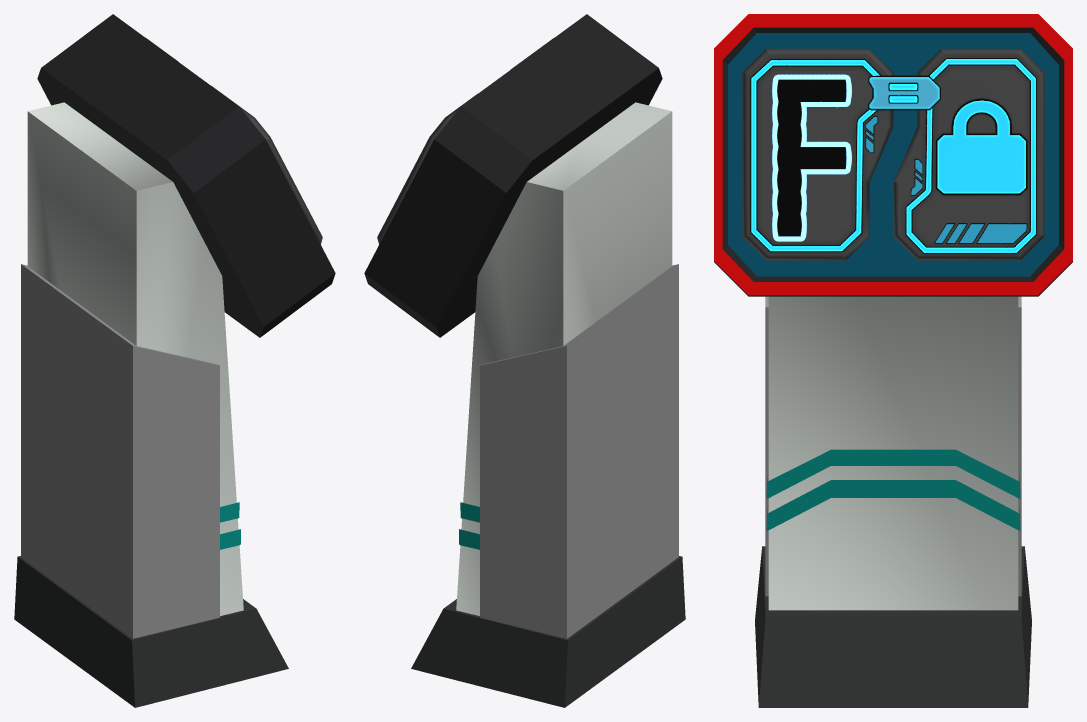
The model's file is lock.simple.glb.
The picture shows the model from 3 angles, left to right: view 1: azimuth 30°, elevation 25°; view 2: azimuth 150°, elevation 25°; view 3: azimuth 270°, elevation 25°; orthographic projection. The views are drawn at different scales.
Visible parts, largest first — view 1: lock.simple; view 2: lock.simple; view 3: lock.simple.
Boxes of the visible parts, x1,y1,x2,y2 form: lock.simple: (14, 14, 335, 707); lock.simple: (364, 14, 685, 707); lock.simple: (714, 14, 1072, 707).
Size of what is drawn, in the model's own units: 0.5381 by 1.53 by 0.7512.
4 materials, 4 textured.
